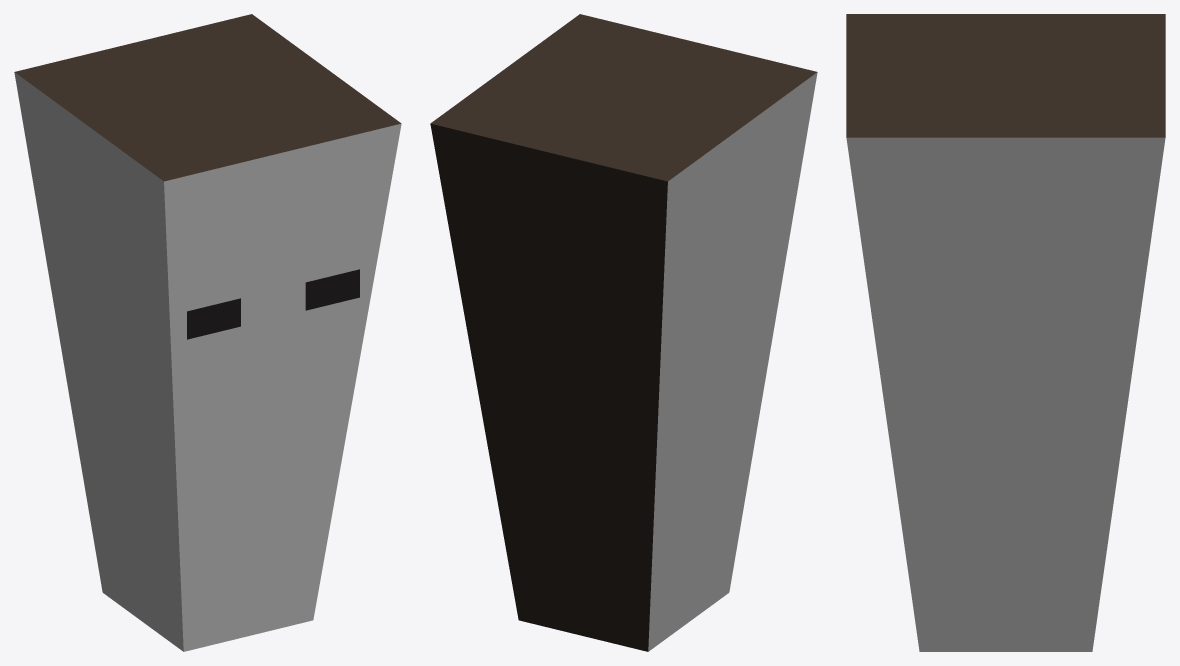
The model's file is head.glb.
3 views of the same model, side by side, from view 1: azimuth 30°, elevation 25°; view 2: azimuth 150°, elevation 25°; view 3: azimuth 270°, elevation 25° (orthographic). The views are drawn at different scales.
Parts seen in each view (by area): view 1: head; view 2: head; view 3: head.
Part boxes in pixels (x1,y1,x2,y2): head: [14, 14, 401, 651]; head: [430, 14, 817, 651]; head: [846, 14, 1165, 651].
Bounding box in the file's own units: 0.22 × 0.45 × 0.24.
